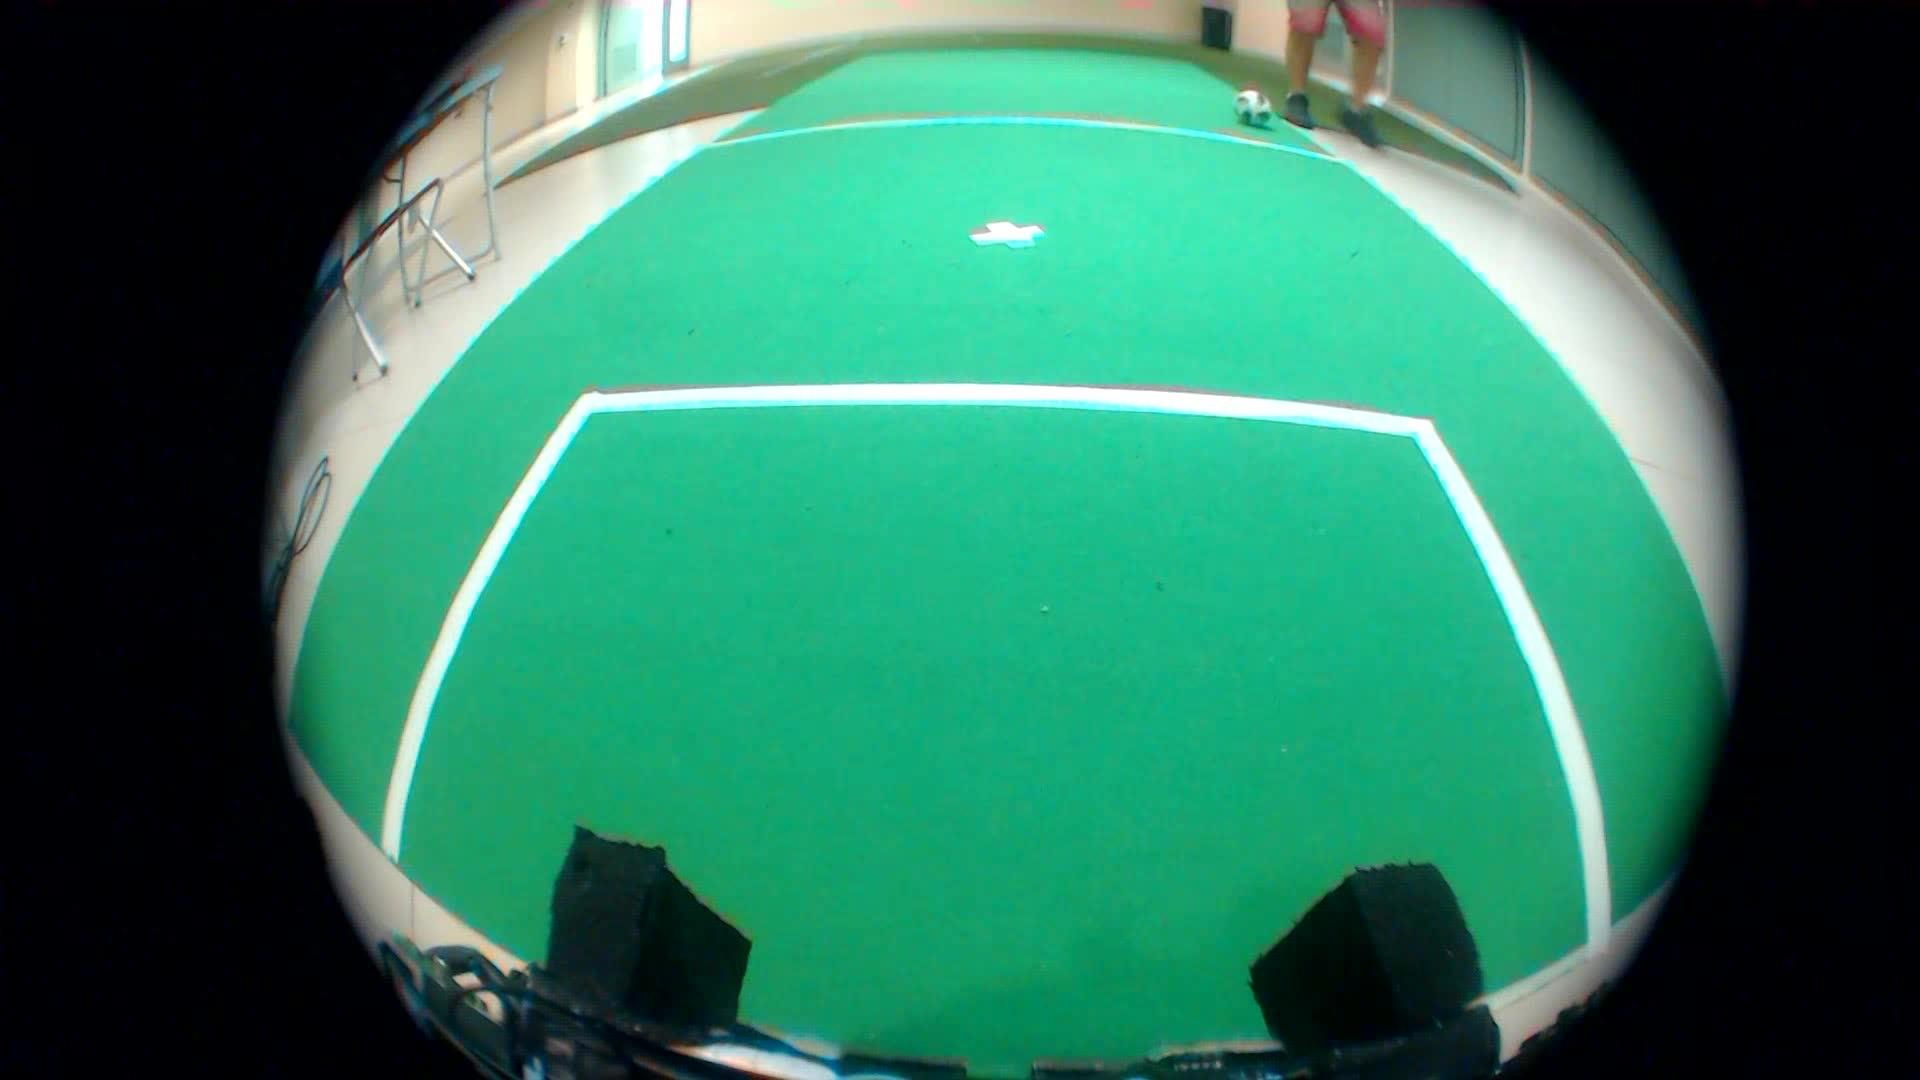ball: (1226, 75, 1276, 135)
